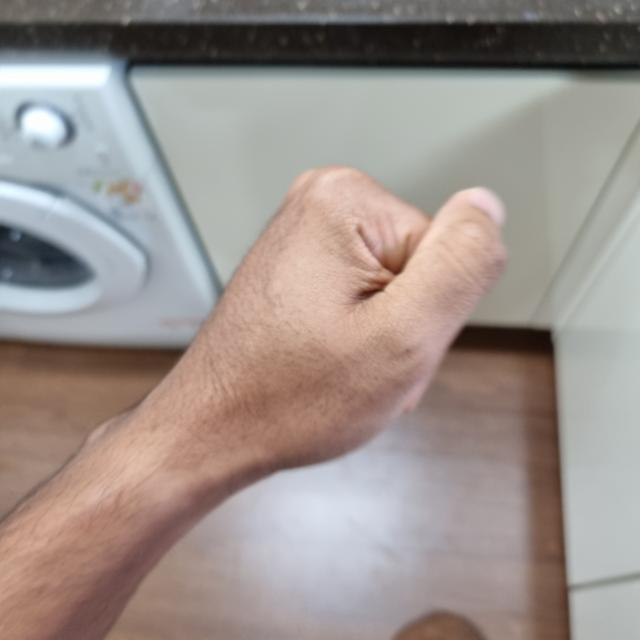Rock: (184, 170, 503, 466)
